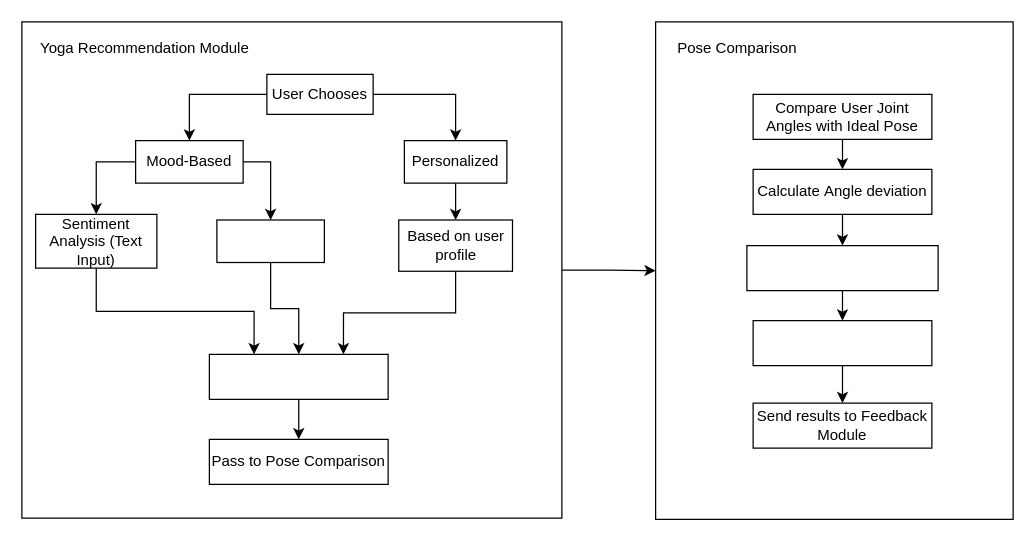
This 1035x541 diagram has some shape labels left out. Each missing label, with the centre of its shape:
"Calculate Pose accuracy %" belongs at pixel 842 267.
"Facial Emoji Recognition" belongs at pixel 270 240.
"Identify wrongly aligned joints" belongs at pixel 842 342.
"Suggest appropriate yoga pose" belongs at pixel 298 376.
